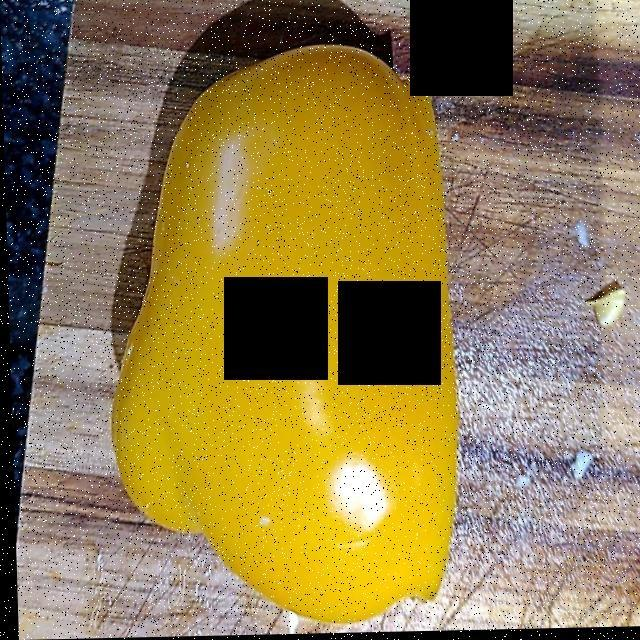bell-pepper: (111, 47, 449, 584)
